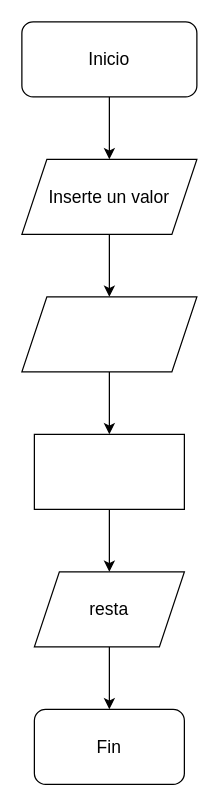
Some shapes in this 219 by 806 pixel diagram are drawn without their labels. Here are the shapes that lost their labels. From the top down, the box of each, then its label:
(21, 296, 197, 372): Inserte otro valor
(33, 433, 184, 509): resta = n1 - n2
